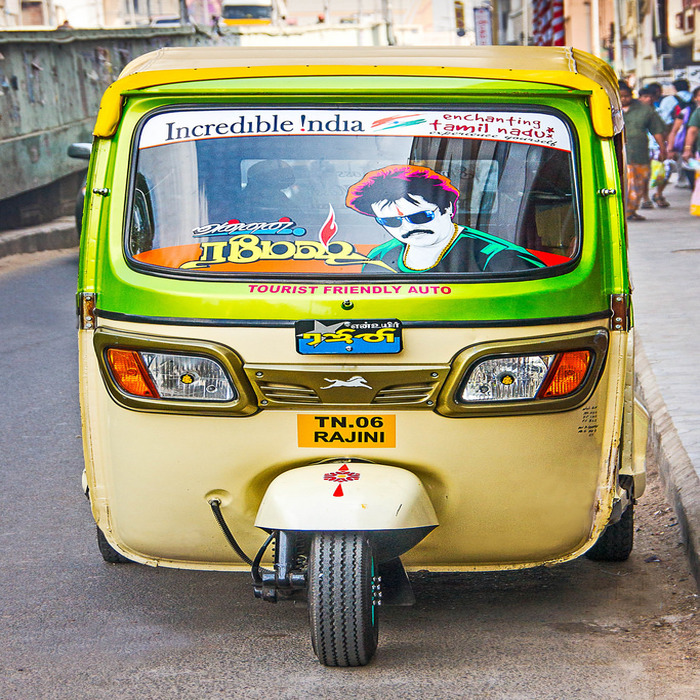n: (292, 409, 402, 451)
